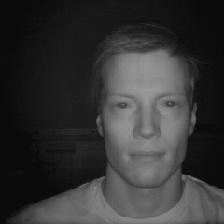normal: (83, 23, 209, 192)
